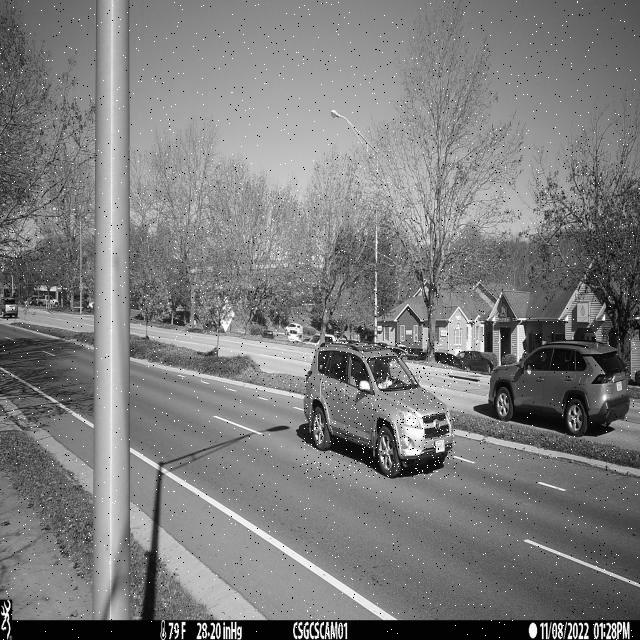SUV: (304, 340, 455, 479)
